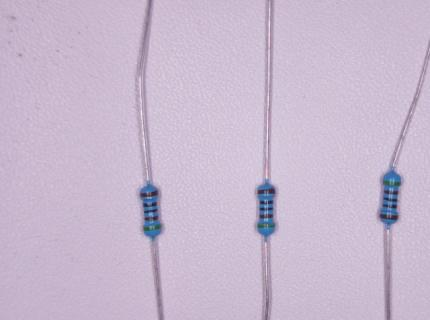Brown band: (144, 216, 158, 221), (259, 214, 273, 218), (384, 191, 398, 195)
Green band: (143, 224, 161, 231), (257, 223, 275, 228), (383, 181, 401, 186)
